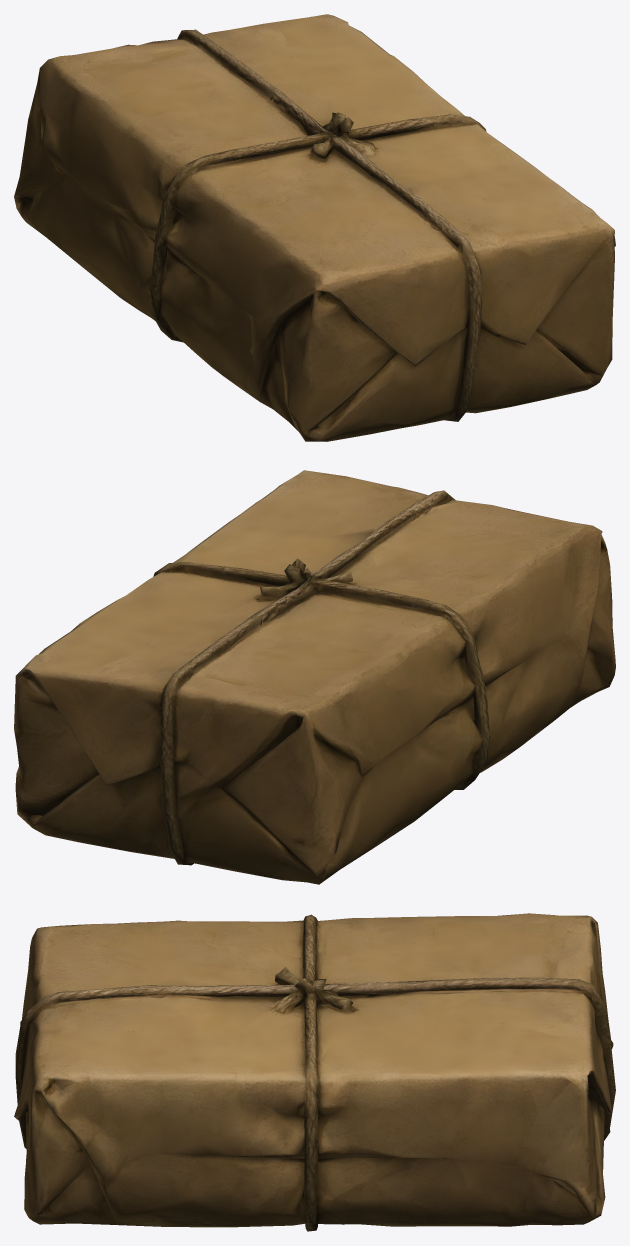
File: parcel_wrapped_long.glb
The picture shows the model from 3 angles, top to bottom: view 1: azimuth 30°, elevation 25°; view 2: azimuth 150°, elevation 25°; view 3: azimuth 270°, elevation 25°; orthographic projection. The views are drawn at different scales.
Parts seen in each view (by area): view 1: tripo_node_9dbb2e29-4feb-4b0f-a489-0e773adf9030; view 2: tripo_node_9dbb2e29-4feb-4b0f-a489-0e773adf9030; view 3: tripo_node_9dbb2e29-4feb-4b0f-a489-0e773adf9030.
Part boxes in pixels (<box>): tripo_node_9dbb2e29-4feb-4b0f-a489-0e773adf9030: <box>14,14,615,441</box>; tripo_node_9dbb2e29-4feb-4b0f-a489-0e773adf9030: <box>14,470,615,884</box>; tripo_node_9dbb2e29-4feb-4b0f-a489-0e773adf9030: <box>14,913,615,1231</box>.
Bounding box in the file's own units: 0.6422 × 0.3755 × 1.
Materials: 1 (1 with a texture image).
